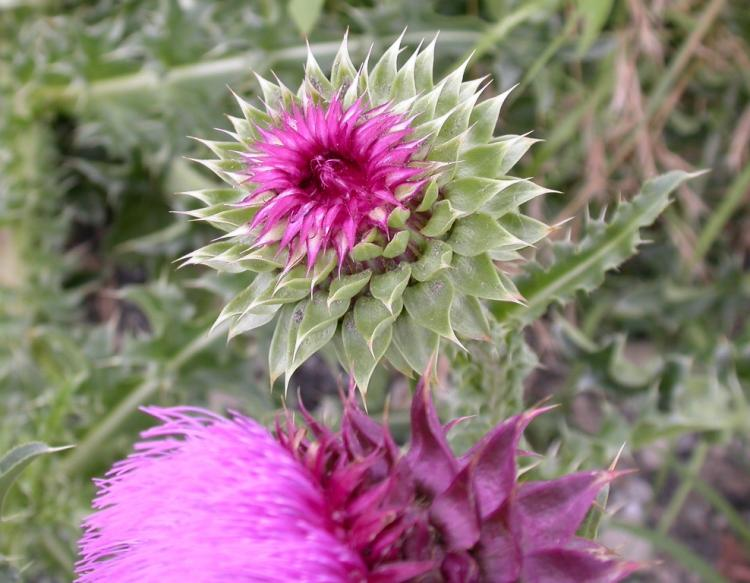thistle: (191, 35, 562, 369), (87, 384, 691, 583)
